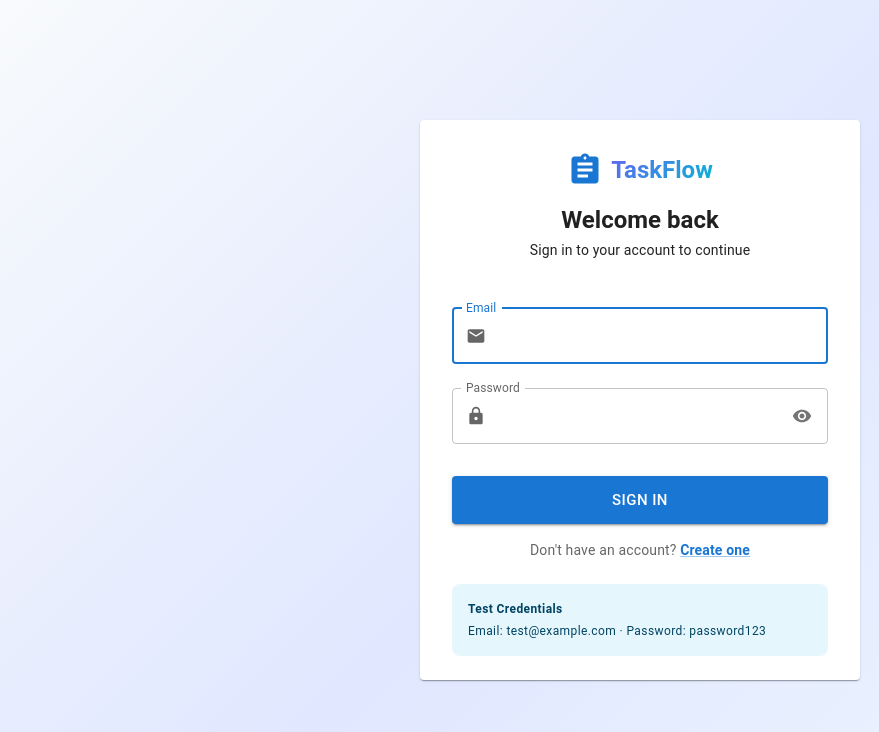
Test: LoginForm › displays error on login failure
The image size is (879, 732).
Type "bad@test.com" into the field labelled "Email".
click(661, 336); type("bad@test.com")  # box [494,308,828,364]
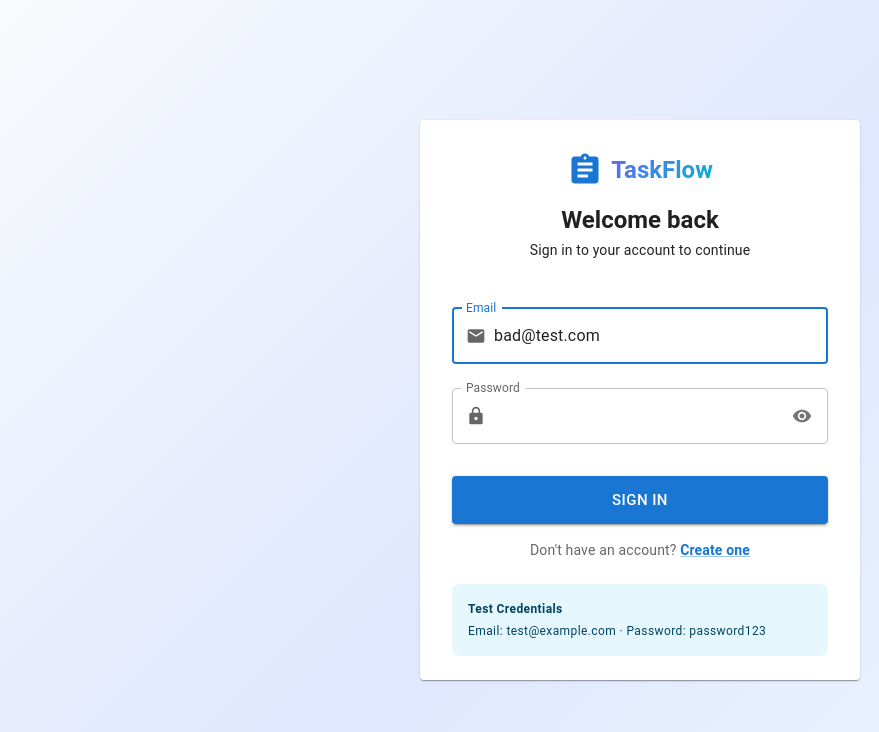
Type "wrong" into the password field labelled "Password".
click(636, 416); type("wrong")  # box [494,388,779,444]
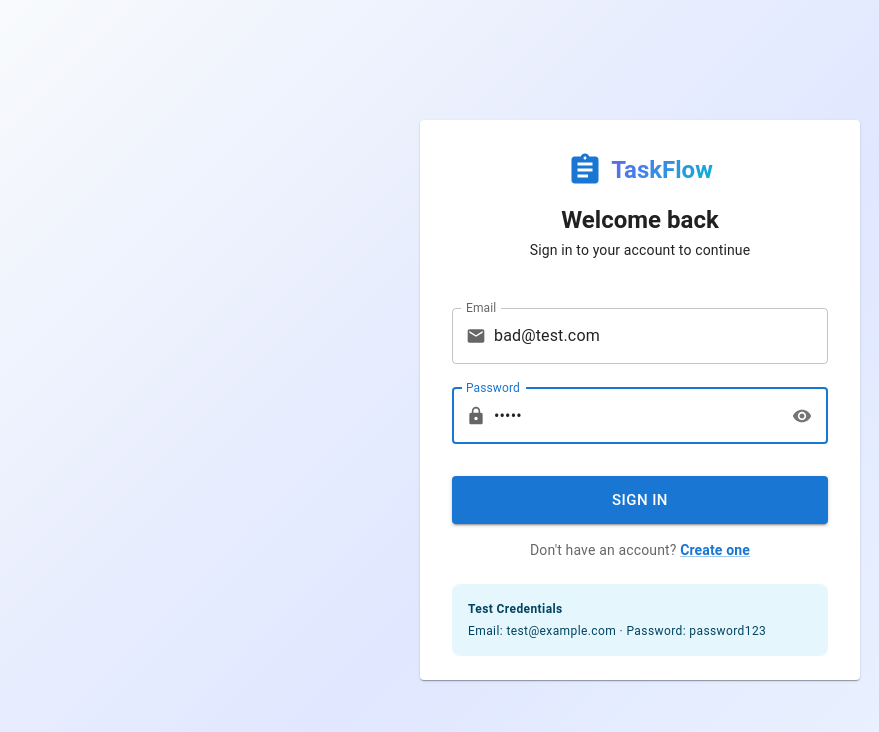
Click the button "Sign In".
click(640, 500)  # box [452,476,828,524]
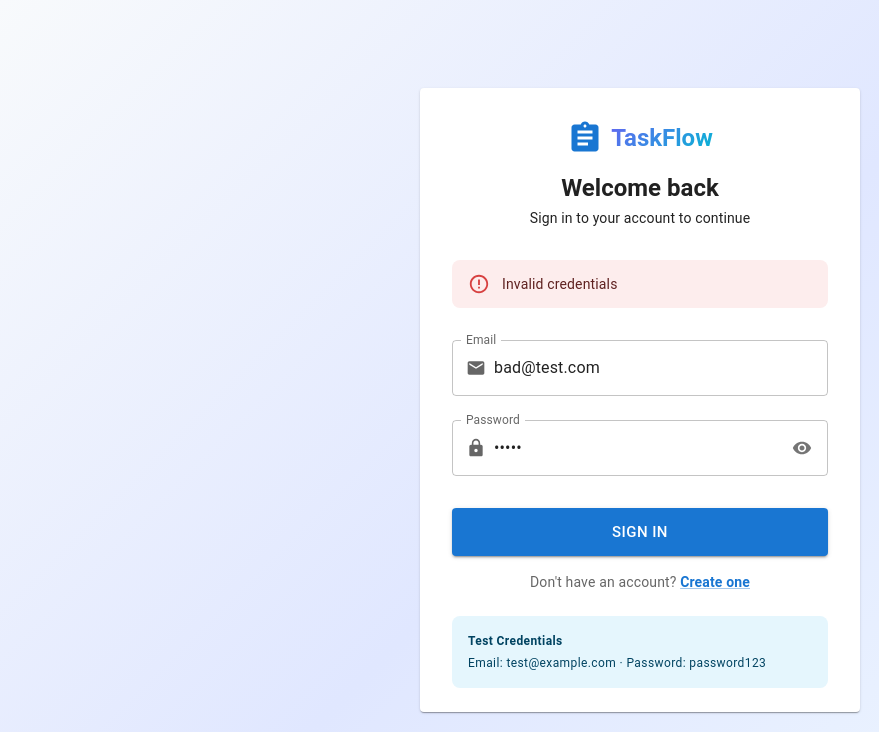
expect the text "Invalid credentials" is shown: met, box [502,276,618,292]
